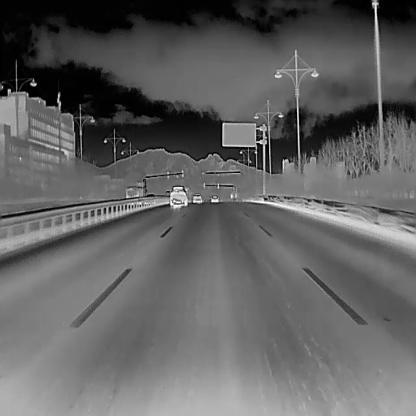car: (170, 184, 188, 207), (124, 186, 147, 203), (192, 191, 202, 203), (209, 194, 219, 203)
